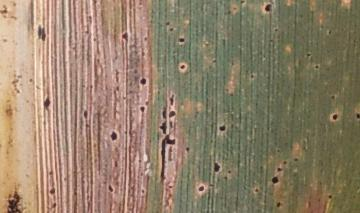tarspot: (154, 100, 179, 192), (38, 92, 55, 116), (33, 20, 49, 43), (76, 106, 94, 121), (106, 126, 121, 143), (267, 173, 284, 188), (135, 73, 150, 89), (118, 27, 131, 45), (208, 159, 222, 175), (261, 1, 276, 15), (175, 59, 188, 74), (166, 92, 179, 107), (328, 110, 341, 125), (44, 167, 58, 180), (45, 185, 58, 197), (104, 183, 116, 196), (136, 104, 149, 116), (215, 122, 228, 134), (195, 182, 207, 195), (272, 198, 285, 210), (224, 166, 236, 178), (327, 91, 338, 103), (174, 35, 187, 45), (139, 33, 150, 44), (312, 60, 321, 73), (353, 108, 360, 124), (159, 20, 175, 27), (182, 145, 193, 155), (247, 71, 258, 81), (326, 191, 336, 202), (138, 186, 147, 198), (49, 200, 59, 210), (274, 164, 284, 174), (250, 186, 261, 195), (303, 49, 314, 58), (279, 158, 291, 166), (291, 155, 300, 165), (271, 26, 282, 34), (166, 27, 178, 34)
